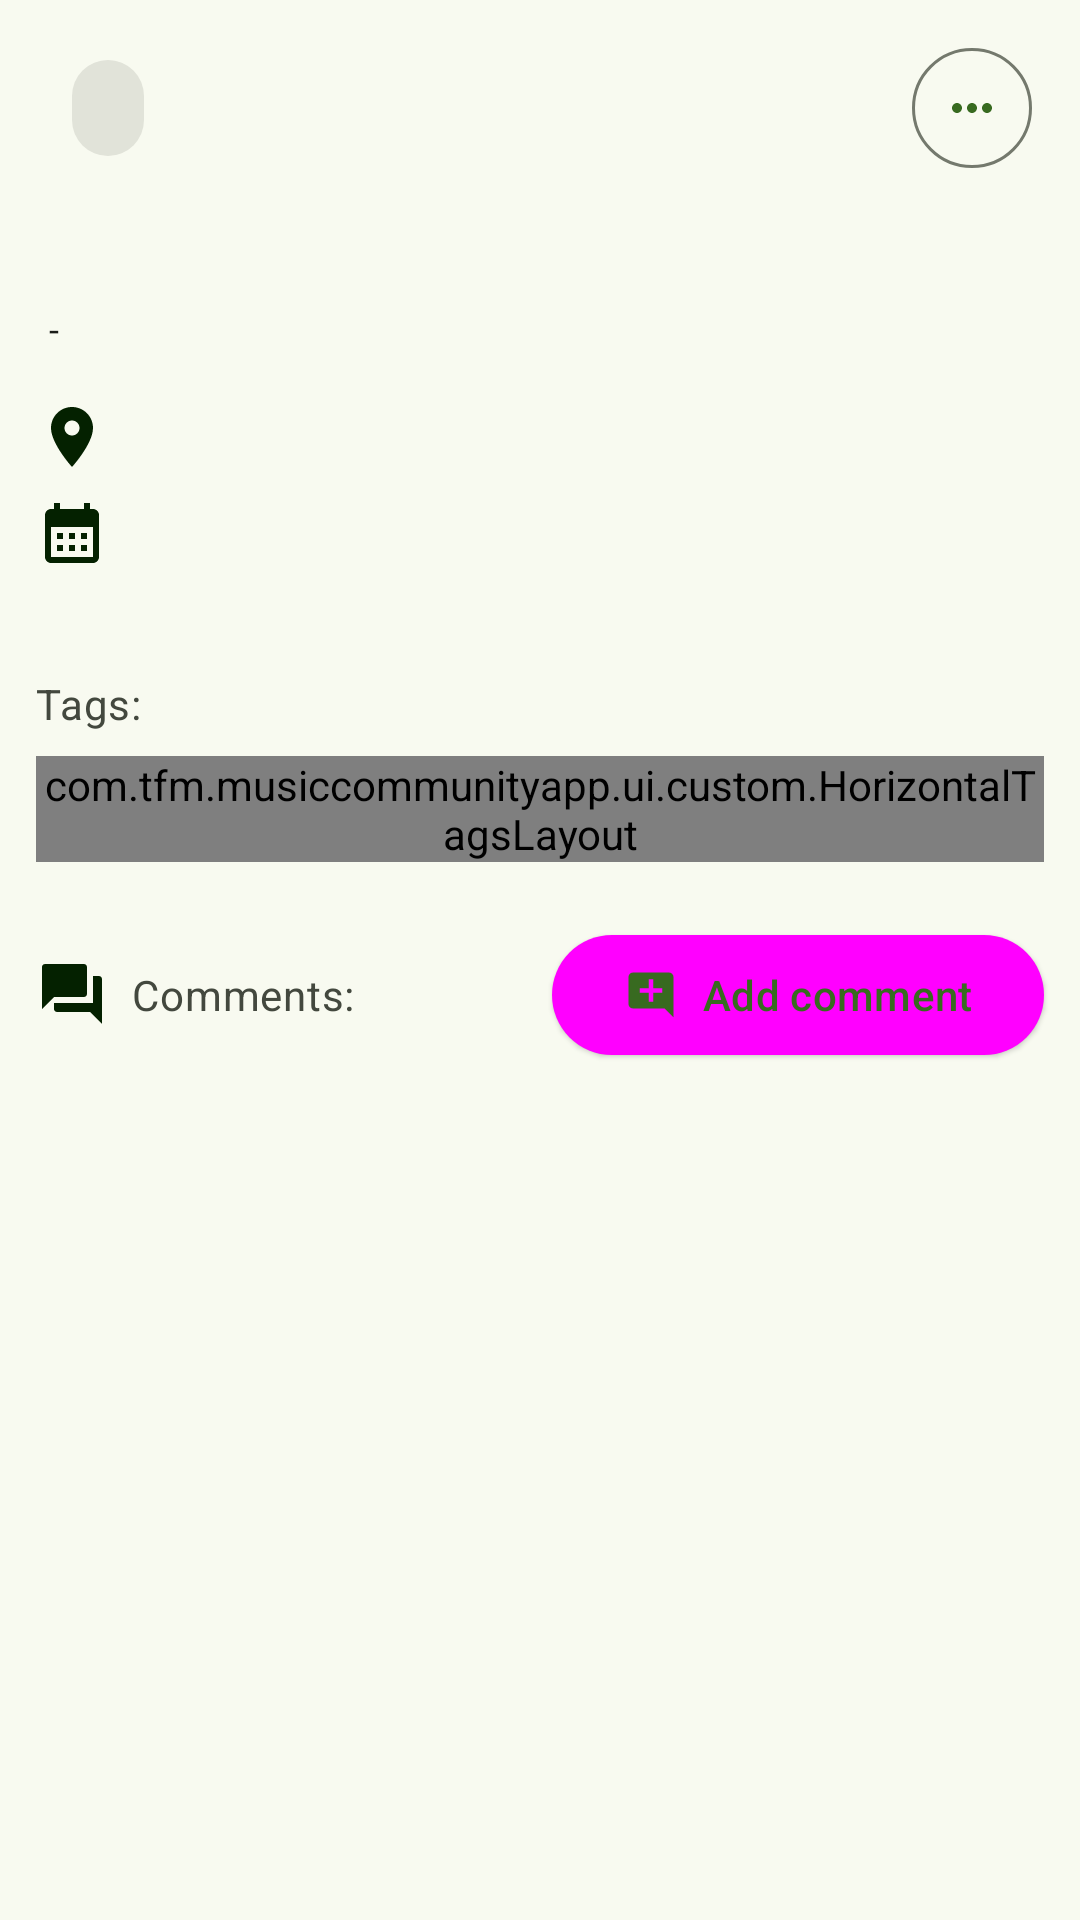

Named icons in this screenshot (1080x1920) and their bounding boxes, [x1,y1,x2,y2]:
calendar: [45,503,99,563]
dots more: [912,48,1032,168]
loc: [51,407,93,467]
